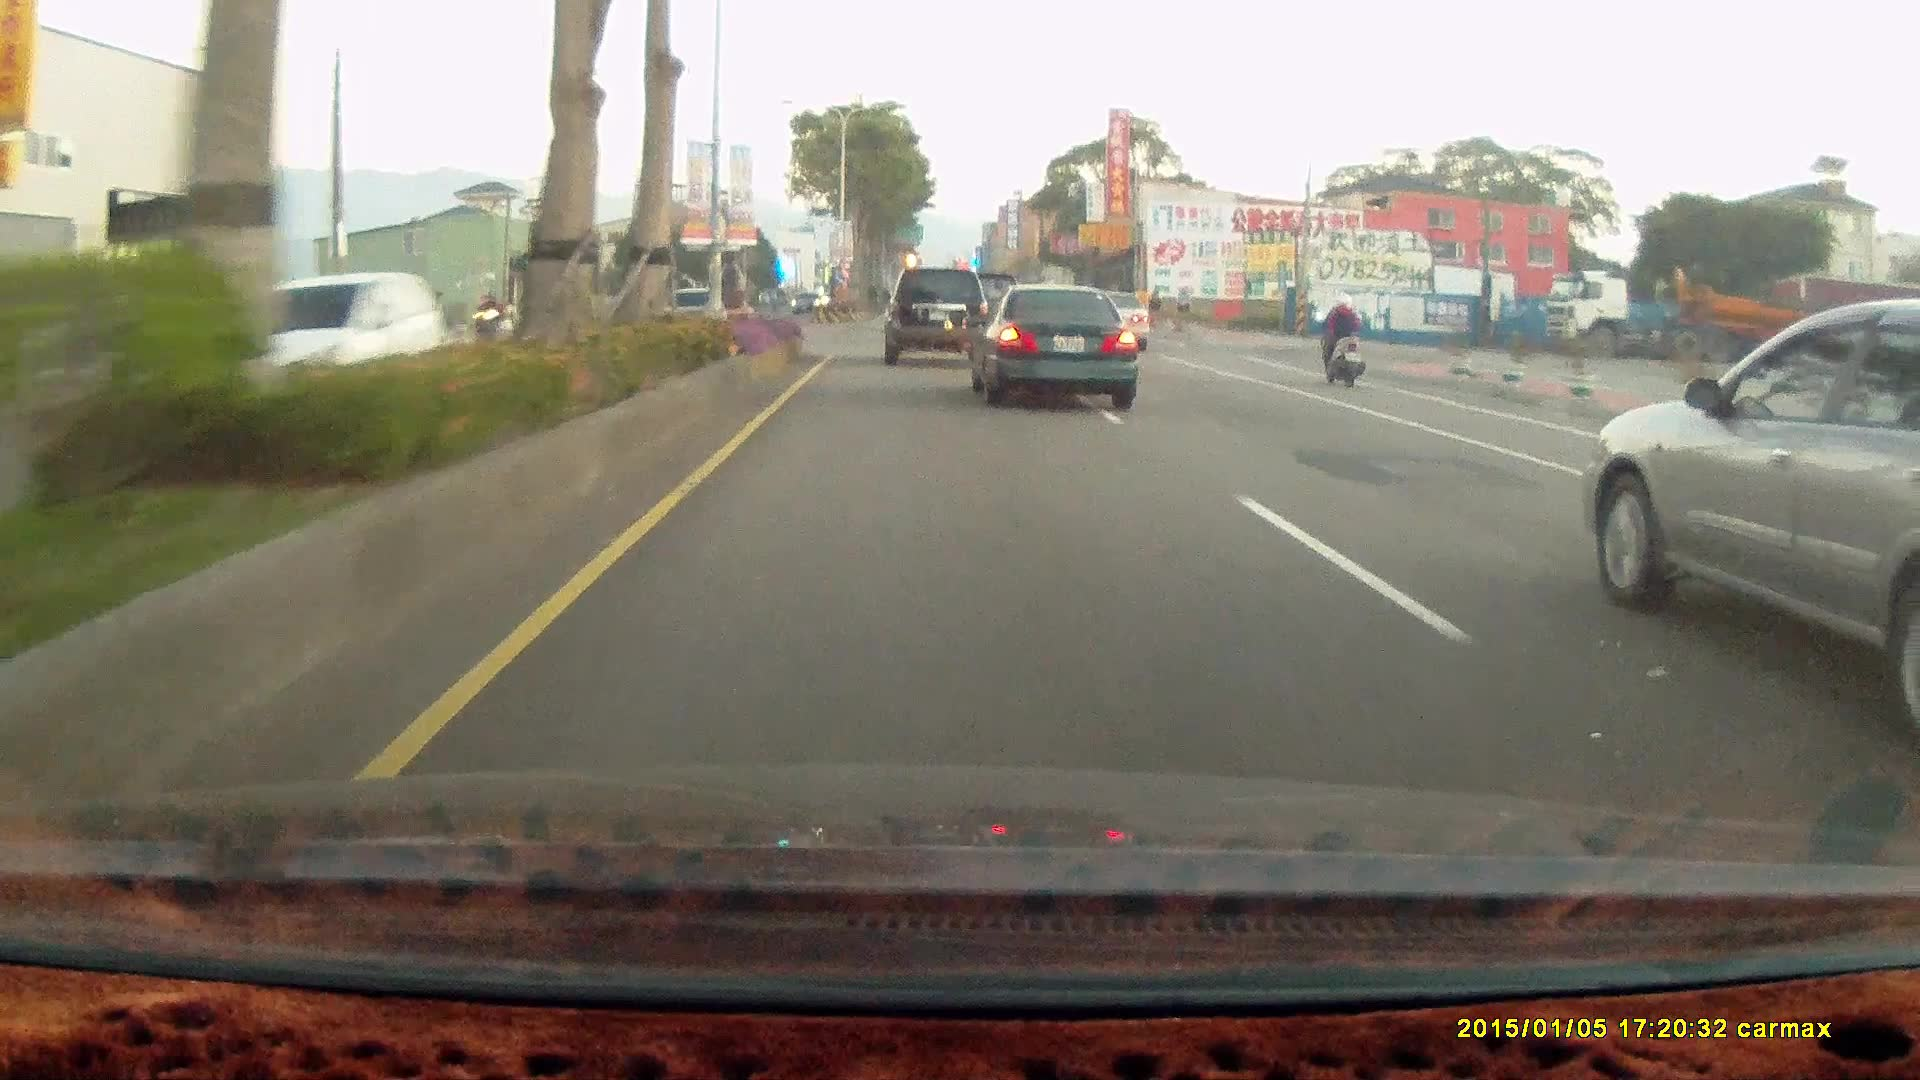rider: (1310, 285, 1373, 392), (1311, 292, 1367, 388), (468, 293, 508, 358)
vehicle: (1588, 296, 1920, 735), (1540, 267, 1920, 368), (213, 271, 453, 424), (238, 271, 442, 422), (962, 287, 1134, 413), (973, 291, 1140, 413), (883, 265, 993, 368), (882, 267, 988, 368), (1076, 288, 1151, 352), (1078, 292, 1153, 356)
